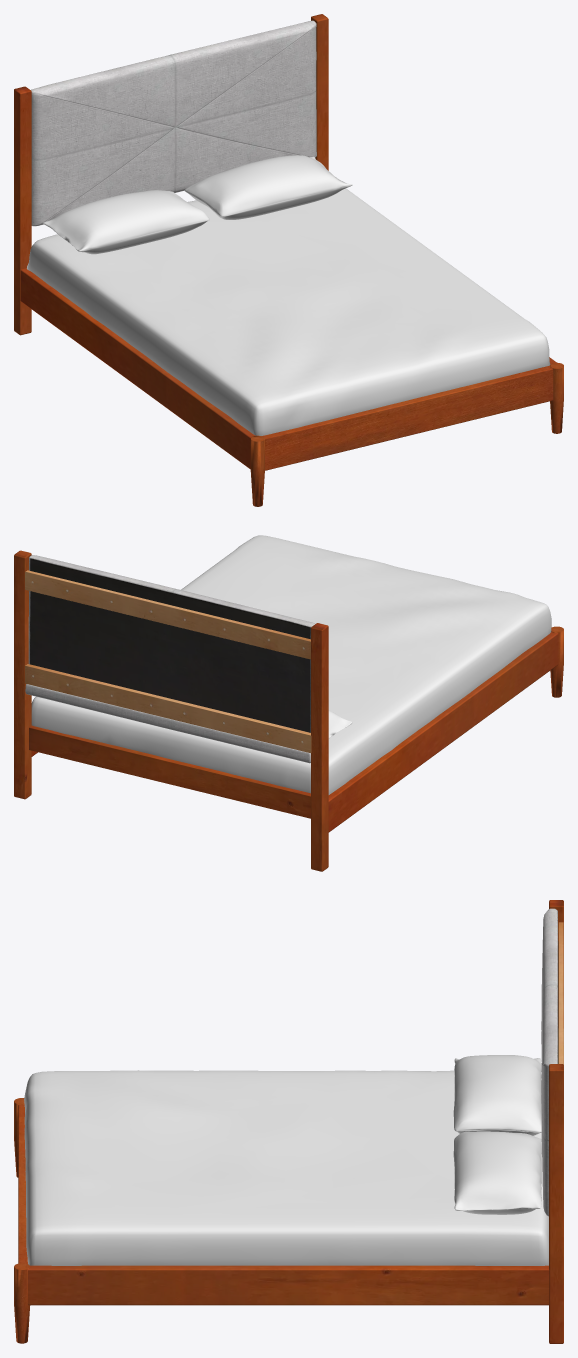
3 renders of one model, top to bottom at view 1: azimuth 30°, elevation 25°; view 2: azimuth 150°, elevation 25°; view 3: azimuth 270°, elevation 25°, orthographic. The views are drawn at different scales.
Visible parts, largest first — view 1: RootNode; view 2: RootNode; view 3: RootNode.
Part boxes in pixels (bbox=[...]): RootNode: bbox=[14, 14, 563, 506]; RootNode: bbox=[14, 535, 563, 871]; RootNode: bbox=[14, 900, 563, 1343].
Bounding box in the file's own units: 1.57 × 1.17 × 2.12.
Materials: 1 (1 with a texture image).
